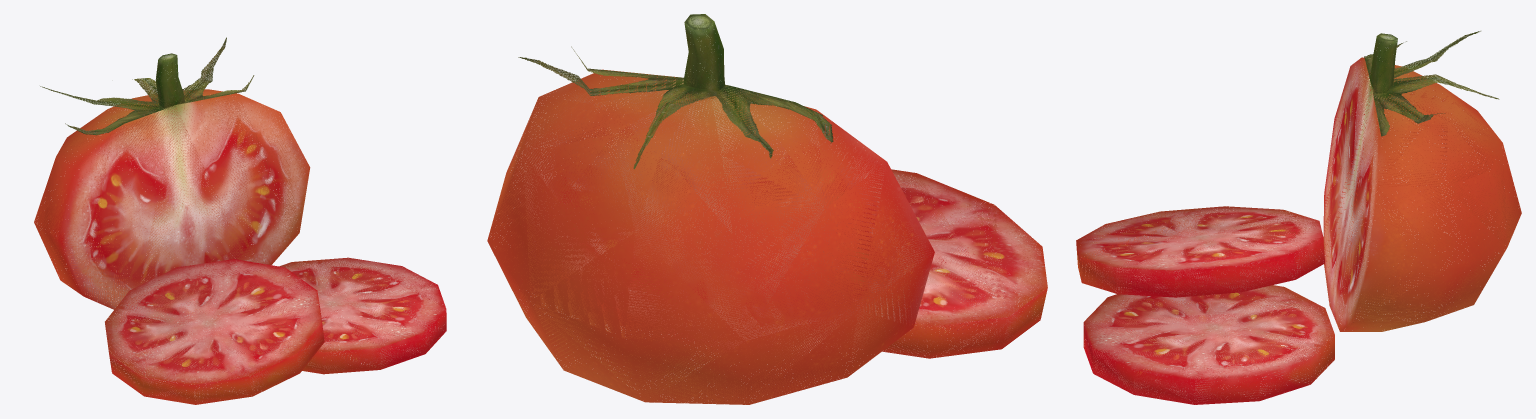
The model's file is handpainted_lowpoly_tomatoes.glb.
The picture shows the model from 3 angles, left to right: view 1: azimuth 30°, elevation 25°; view 2: azimuth 150°, elevation 25°; view 3: azimuth 270°, elevation 25°; orthographic projection. The views are drawn at different scales.
Parts seen in each view (by area): view 1: Sphere.007, Circle.005, Circle.004, Plane.004, Sphere.008; view 2: Sphere.007, Circle.005, Plane.004, Sphere.008; view 3: Sphere.007, Circle.004, Circle.005, Plane.004, Sphere.008.
Part boxes in pixels (x1,y1,x2,y2): Sphere.007: (34, 89, 310, 311); Circle.005: (105, 259, 324, 404); Circle.004: (260, 257, 446, 374); Plane.004: (40, 37, 254, 135); Sphere.008: (155, 53, 184, 110); Sphere.007: (487, 69, 934, 404); Circle.005: (744, 167, 1047, 358); Plane.004: (518, 46, 833, 169); Sphere.008: (683, 14, 725, 100); Sphere.007: (1323, 57, 1521, 331); Circle.004: (1083, 285, 1334, 404); Circle.005: (1076, 206, 1324, 297); Plane.004: (1364, 31, 1499, 136); Sphere.008: (1370, 33, 1397, 94).
Bounding box in the file's own units: 2.89 × 2.09 × 3.1.
1 material, 1 textured.
